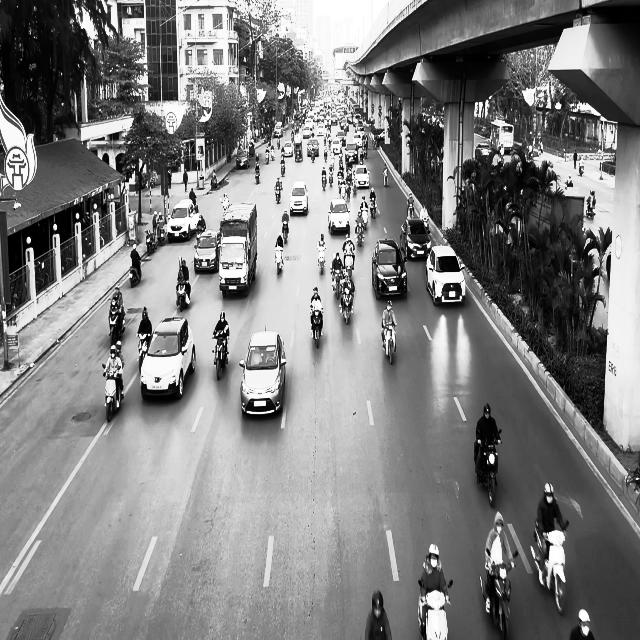bus: (490, 119, 514, 154)
car: (139, 316, 196, 400), (239, 327, 286, 417), (425, 244, 466, 306), (371, 238, 408, 300), (167, 198, 199, 242), (400, 218, 431, 260), (193, 230, 220, 273), (328, 198, 350, 234), (289, 180, 309, 215), (236, 150, 249, 168)
motorbike: (530, 518, 569, 614), (479, 548, 518, 640), (417, 578, 453, 640), (474, 432, 501, 508), (102, 363, 124, 422), (212, 331, 229, 380), (381, 321, 397, 365), (137, 331, 151, 374), (310, 306, 323, 348), (176, 280, 190, 311), (128, 259, 142, 287), (274, 243, 284, 274), (316, 246, 326, 274), (281, 220, 289, 243), (274, 182, 282, 203)
truck: (217, 202, 258, 298)
